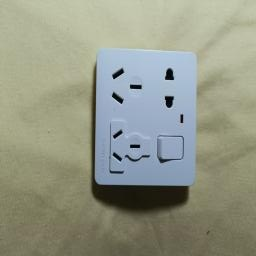outlet: (85, 49, 202, 196)
